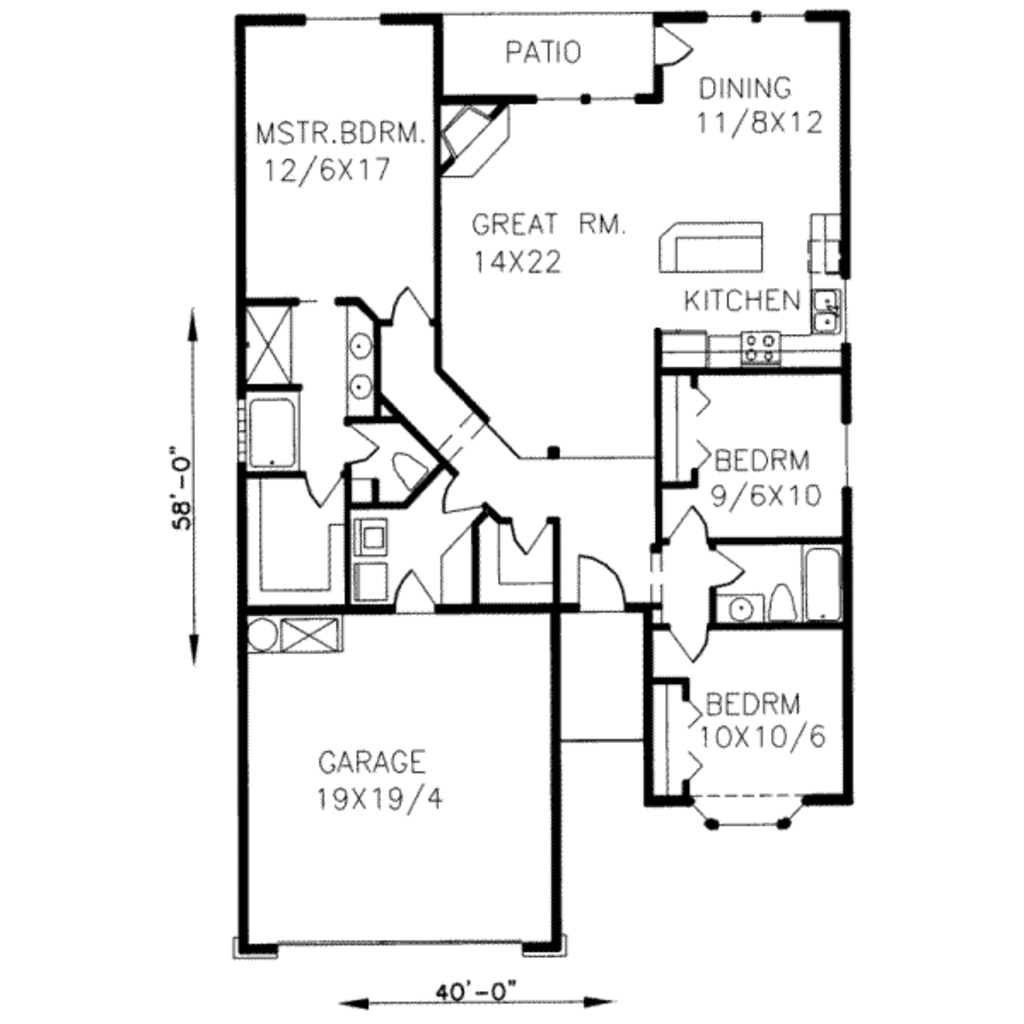door: (571, 552, 636, 614), (649, 19, 698, 84), (393, 570, 450, 617), (666, 616, 714, 660), (384, 287, 433, 330), (433, 471, 479, 516), (338, 420, 377, 470), (507, 514, 555, 554), (709, 543, 749, 590), (665, 500, 706, 543), (301, 466, 342, 508)
large_sink: (385, 438, 425, 493), (763, 585, 806, 636)
small_sink: (342, 300, 380, 424), (707, 593, 766, 625)
tub: (795, 543, 857, 622), (247, 390, 298, 479)
twin_sink: (809, 287, 853, 346)
window: (690, 8, 820, 28), (838, 417, 865, 492), (303, 12, 392, 27)
